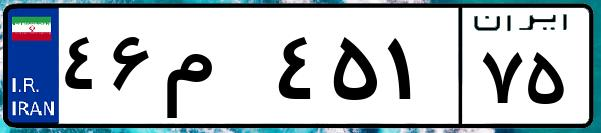1: (385, 28, 445, 110)
4: (270, 28, 330, 110), (57, 26, 110, 100)
5: (330, 28, 385, 110), (525, 38, 570, 115)
6: (110, 28, 158, 98)
7: (475, 38, 525, 113)
م: (158, 20, 270, 120)
